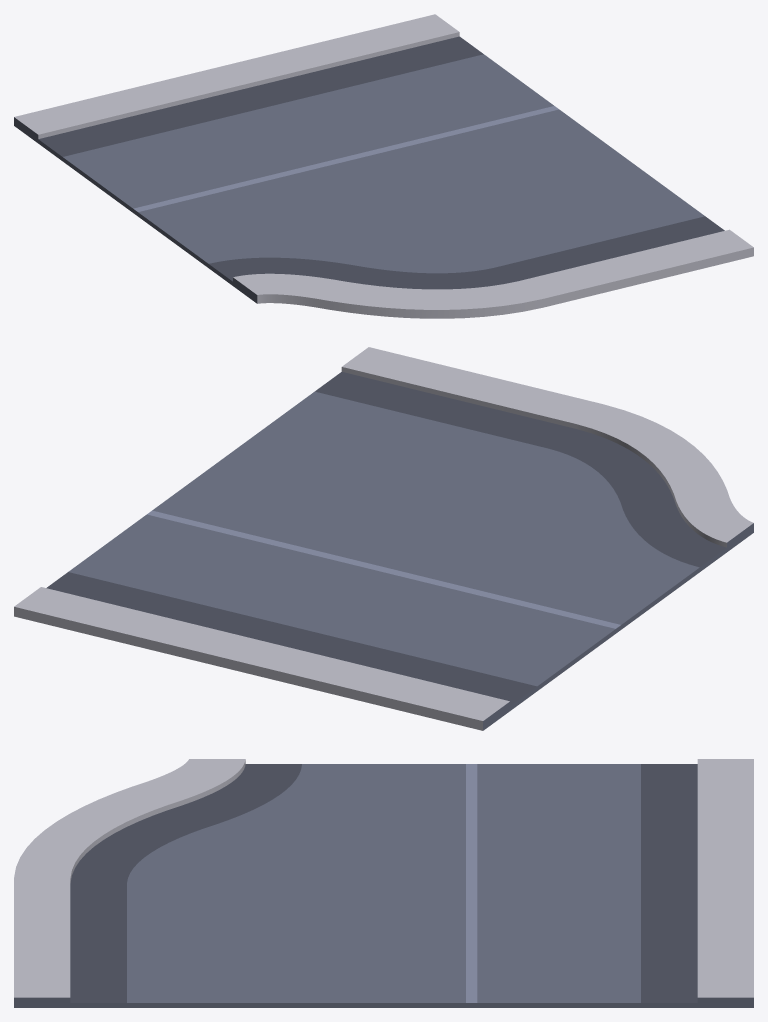
File: Road Side Entry.glb
3 views of the same model, one above another, from view 1: azimuth 30°, elevation 25°; view 2: azimuth 150°, elevation 25°; view 3: azimuth 270°, elevation 25° (orthographic). The views are drawn at different scales.
Visible parts, largest first — view 1: road_sideEntry; view 2: road_sideEntry; view 3: road_sideEntry.
Boxes of the visible parts, x1,y1,x2,y2 form: road_sideEntry: (14, 14, 753, 318); road_sideEntry: (14, 347, 753, 730); road_sideEntry: (14, 759, 753, 1007).
Size of the model in its own units: 1 by 0.02 by 1.31.
